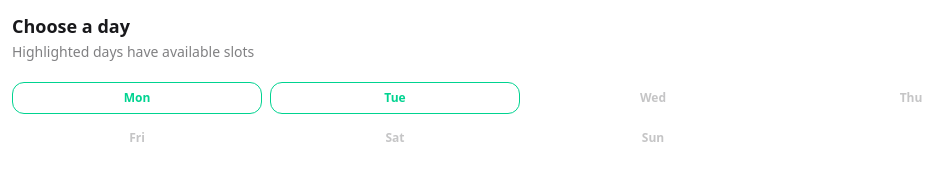
Scenario: BookTeacherInModal › advances to hour selection when a day button is clicked
Click the button "Mon" at x=137, y=98, box [12,82,262,114]
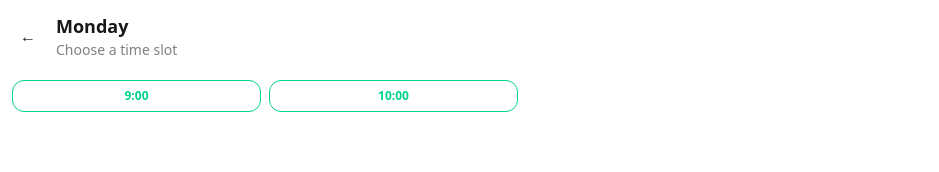
Check: the button "9:00" is shown, box [12,80,261,112]
